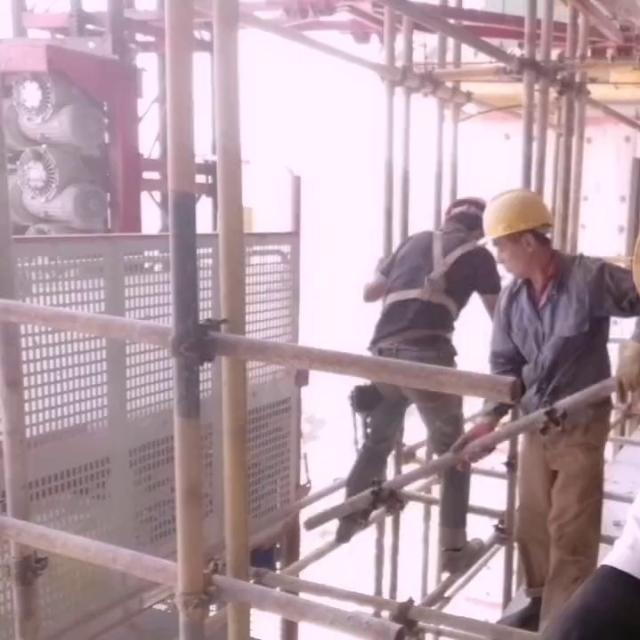Arnes_seguridad: (376, 220, 486, 320)
